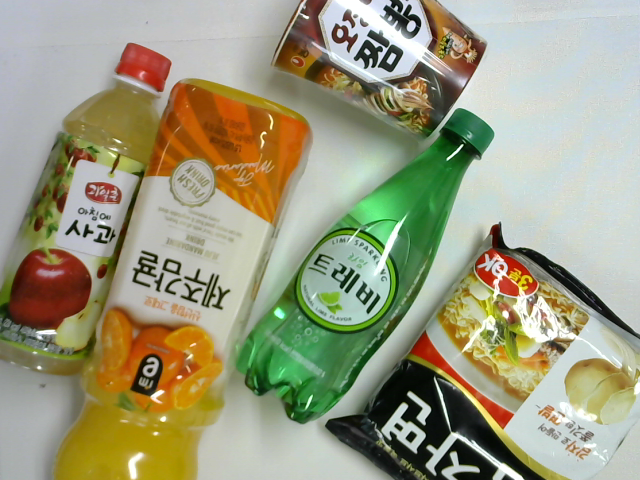Jeju_Tangerine_1.5L: (48, 77, 314, 480)
Morning_Apple_500ml: (1, 41, 173, 376)
Ojjam: (267, 1, 489, 140)
Potato: (326, 222, 640, 480)
Treviraim_500ml: (234, 106, 498, 425)
